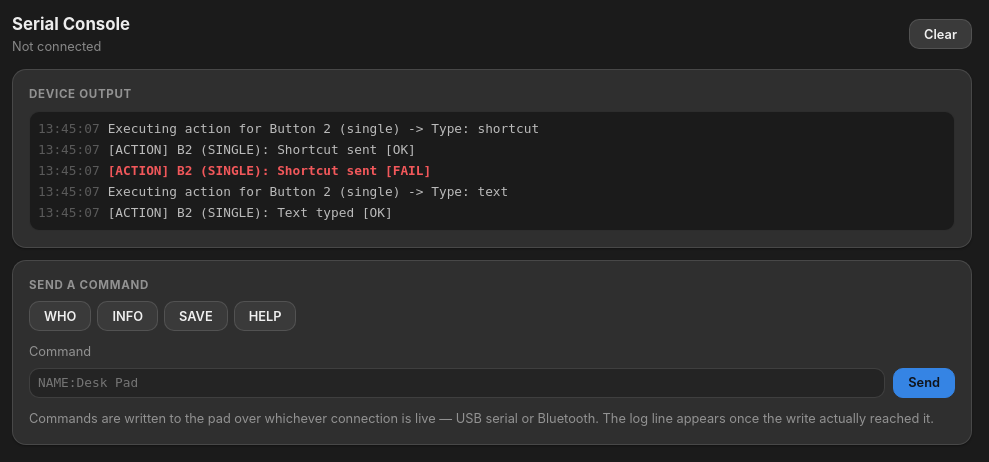
Test case: action execution › keeps a failing action in the middle of a chain visible and in order
Click the button with test id "console-clear". click: x=941, y=34
box: [909,19,972,49]
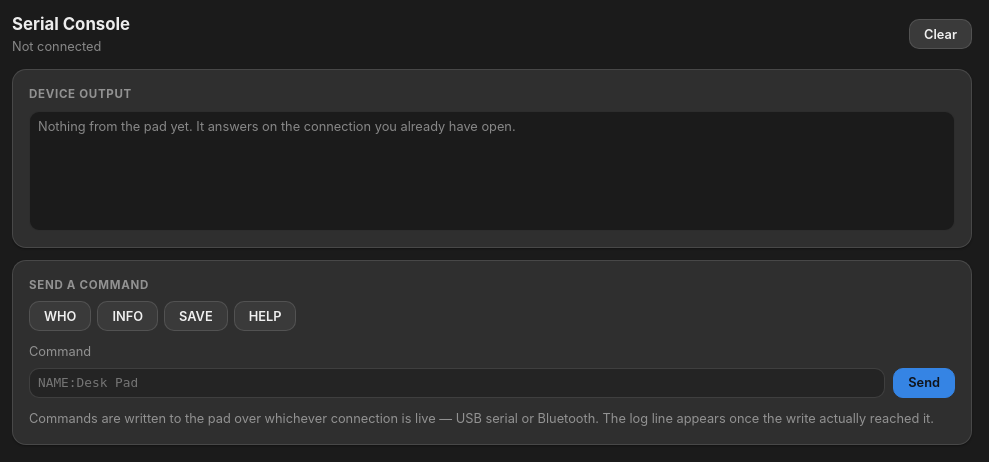
Expected: no elements with test id "log-line" are shown
Expected: the text with test id "console-empty" is shown, [38,119,516,134]
